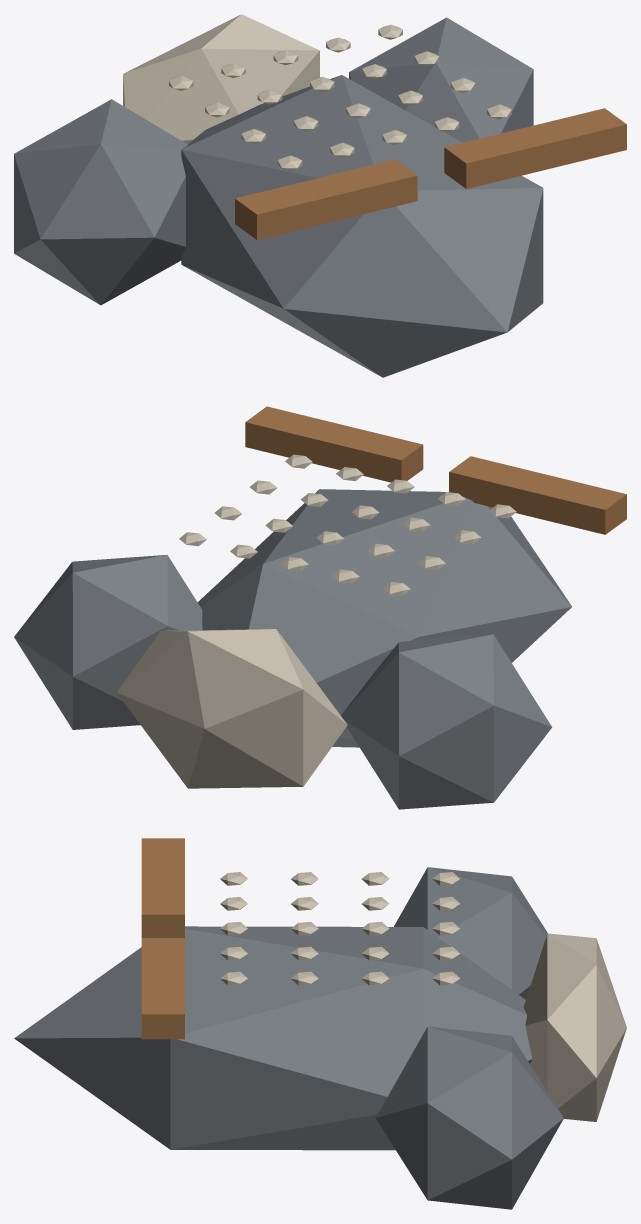
File: armor.glb
3 views of the same model, one above another, from view 1: azimuth 30°, elevation 25°; view 2: azimuth 150°, elevation 25°; view 3: azimuth 270°, elevation 25° (orthographic). The views are drawn at different scales.
Parts seen in each view (by area): view 1: mail_torso, shoulder_-1, collar, shoulder_1, belt_-1, belt_1; view 2: mail_torso, collar, shoulder_-1, shoulder_1, belt_-1, belt_1; view 3: mail_torso, shoulder_1, collar, shoulder_-1, belt_1, belt_-1.
Boxes of the visible parts, x1=… form: mail_torso: x1=181, y1=75, x2=543, y2=377; shoulder_-1: x1=14, y1=99, x2=188, y2=305; collar: x1=123, y1=14, x2=319, y2=144; shoulder_1: x1=349, y1=17, x2=533, y2=142; belt_-1: x1=235, y1=159, x2=417, y2=239; belt_1: x1=444, y1=108, x2=626, y2=188; mail_torso: x1=197, y1=489, x2=571, y2=747; collar: x1=116, y1=629, x2=347, y2=788; shoulder_-1: x1=341, y1=634, x2=552, y2=809; shoulder_1: x1=14, y1=555, x2=202, y2=729; belt_-1: x1=449, y1=456, x2=626, y2=534; belt_1: x1=245, y1=406, x2=423, y2=482; mail_torso: x1=14, y1=926, x2=532, y2=1150; shoulder_1: x1=375, y1=1026, x2=563, y2=1209; collar: x1=523, y1=933, x2=626, y2=1121; shoulder_-1: x1=394, y1=867, x2=547, y2=999; belt_1: x1=141, y1=938, x2=184, y2=1039; belt_-1: x1=141, y1=838, x2=184, y2=937.
Bounding box in the file's own units: 0.7304 × 0.2876 × 0.78.
